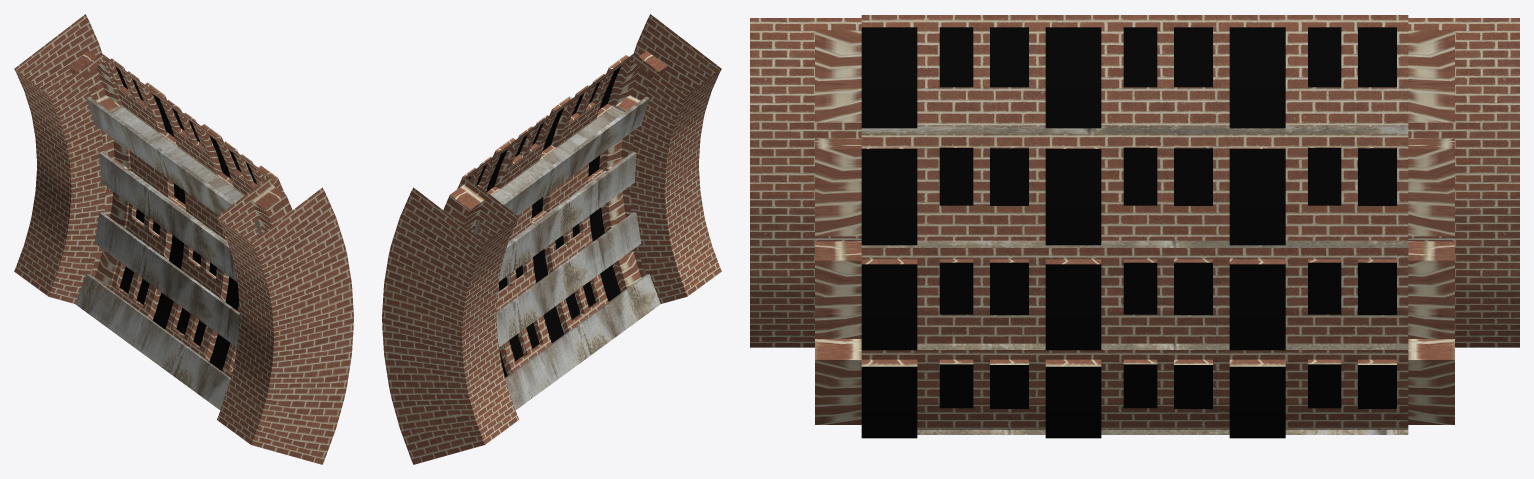
The model's file is House_A_011.fbx.
3 renders of one model, left to right at view 1: azimuth 30°, elevation 25°; view 2: azimuth 150°, elevation 25°; view 3: azimuth 270°, elevation 25°, orthographic. The views are drawn at different scales.
Visible parts, largest first — view 1: polySurface10; view 2: polySurface10; view 3: polySurface10.
Boxes of the visible parts, box(x1,y1,x2,y2) form: polySurface10: box(14, 14, 353, 464); polySurface10: box(382, 14, 721, 464); polySurface10: box(750, 15, 1519, 438).
Bounding box in the file's own units: 0.0498 × 0.1285 × 0.1988.
